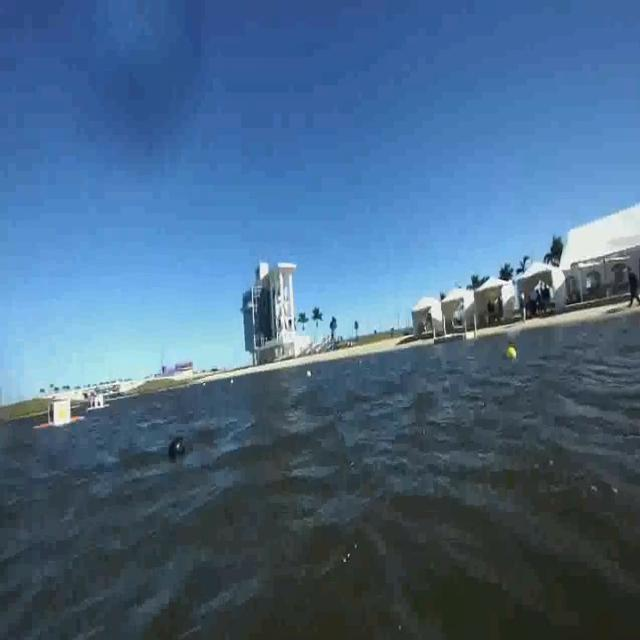black-buoy: (166, 436, 185, 468)
yellow-buoy: (505, 343, 517, 362)
